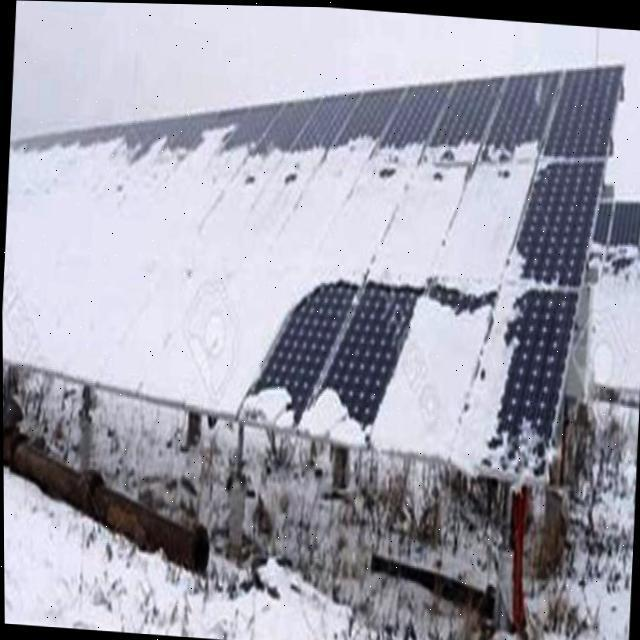Anomaly Solar Panel: (2, 62, 622, 483)
Snow: (2, 148, 545, 476)
